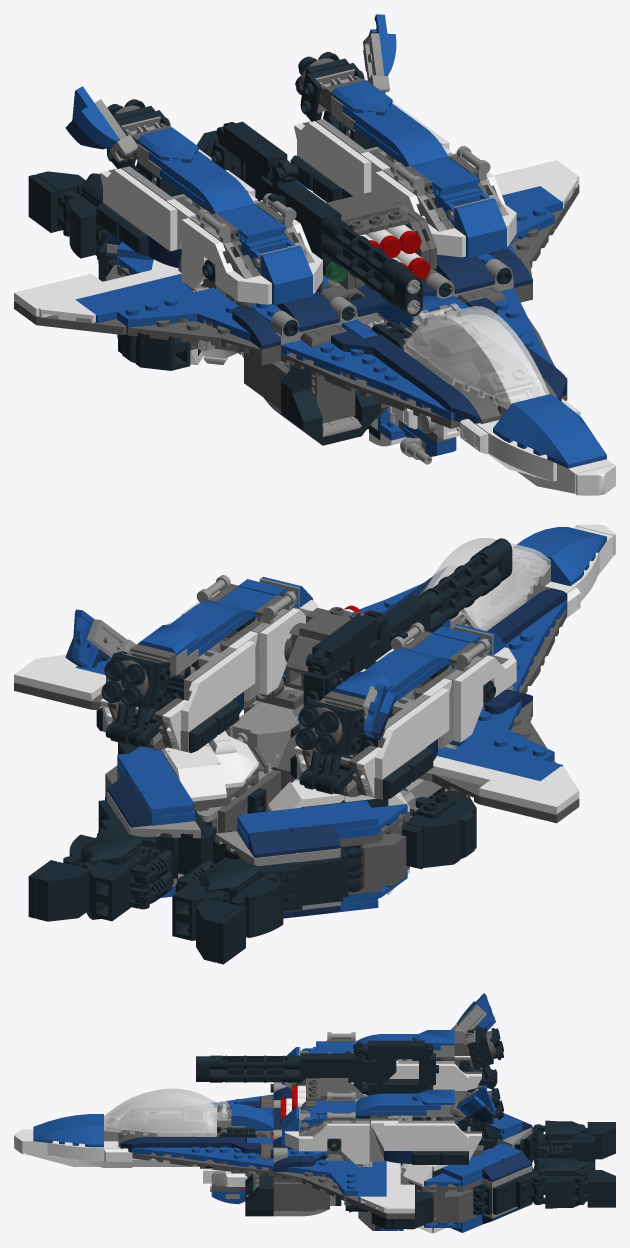
File: afc-01h-legioss-fighter.dae
The picture shows the model from 3 angles, top to bottom: view 1: azimuth 30°, elevation 25°; view 2: azimuth 150°, elevation 25°; view 3: azimuth 270°, elevation 25°; orthographic projection. The views are drawn at different scales.
Bounding box in the file's own units: 560 × 852 × 290.
